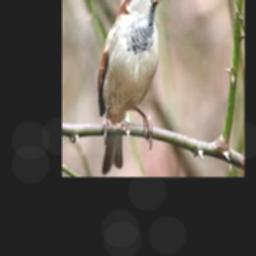Sparrow: (98, 0, 169, 174)
